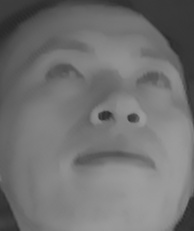eye: (134, 61, 177, 96), (44, 56, 86, 91)
mouth: (73, 140, 158, 182)
